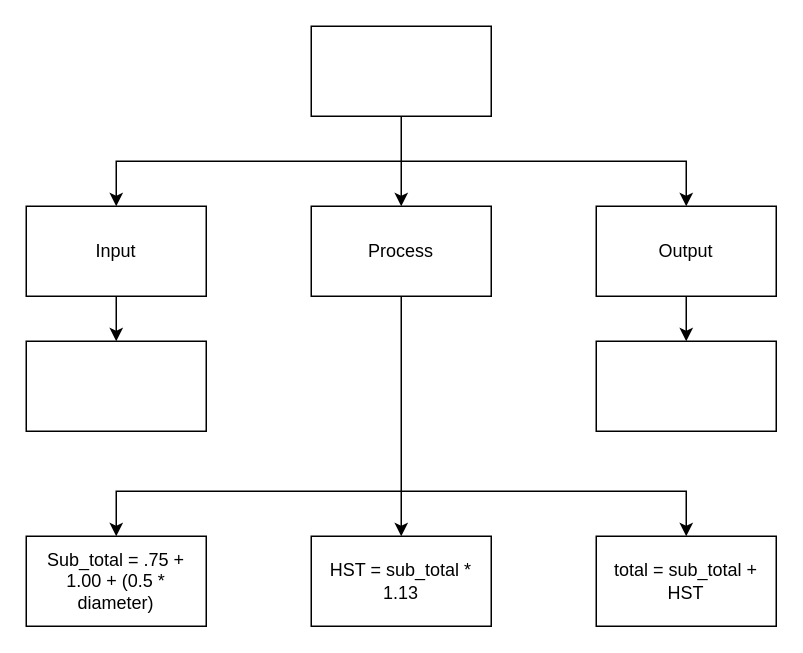
Some shapes in this 803 by 653 pixel diagram are drawn without their labels. The shapes that lost their labels are listed below. From the top down, each one's centre as x and y in pixels, then its label:
At (x=400, y=70): "Pizza Total".
At (x=115, y=385): "Get Diameter".
At (x=685, y=385): "Show total".
